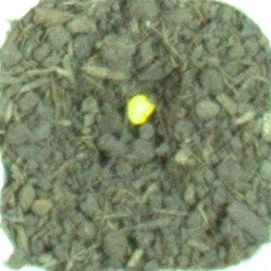pepper seed: (48, 30, 205, 157)
